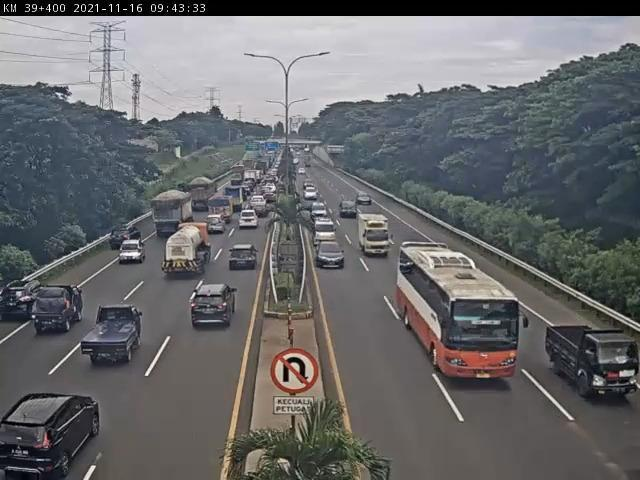bus: (397, 242, 531, 385)
car: (1, 393, 103, 480), (82, 303, 146, 365), (31, 286, 83, 337), (192, 283, 240, 333), (1, 280, 43, 323), (315, 242, 348, 272), (229, 248, 259, 274), (109, 228, 142, 251), (119, 240, 148, 266), (316, 217, 339, 247), (238, 213, 260, 234), (207, 216, 228, 236)
truck: (545, 324, 640, 403), (161, 222, 214, 280), (148, 191, 195, 243), (358, 211, 394, 257)
